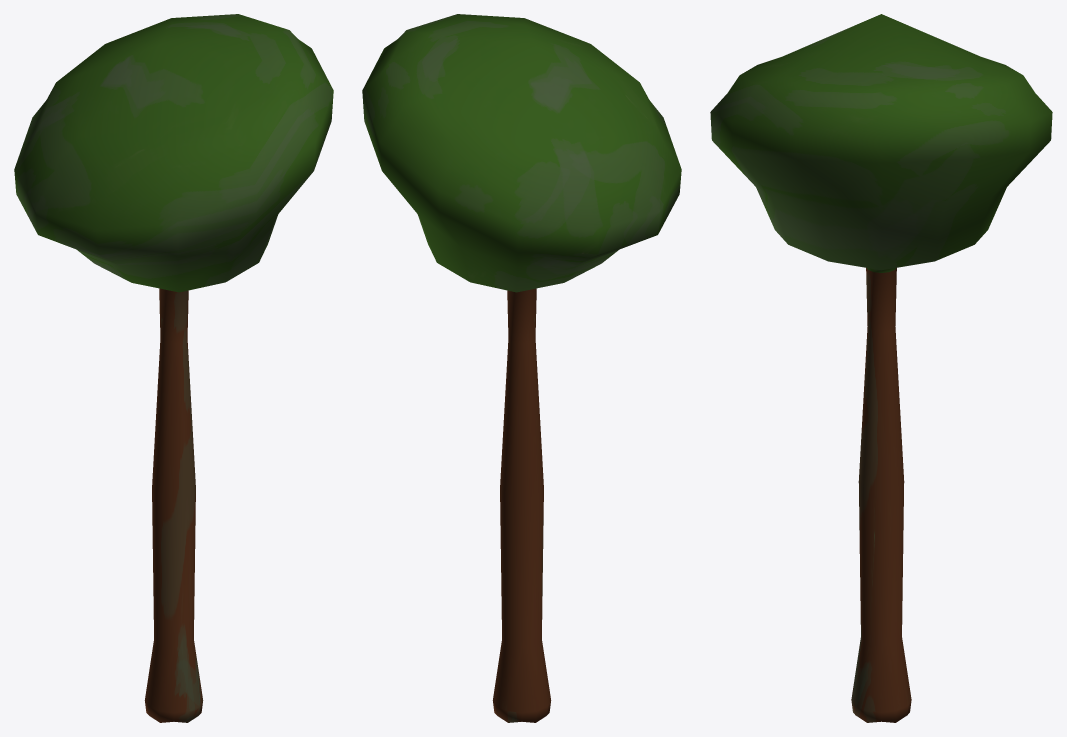
File: TreeObject.FBX
3 renders of one model, left to right at view 1: azimuth 30°, elevation 25°; view 2: azimuth 150°, elevation 25°; view 3: azimuth 270°, elevation 25°, orthographic. The views are drawn at different scales.
Visible parts, largest first — view 1: Cylinder001; view 2: Cylinder001; view 3: Cylinder001.
Boxes of the visible parts, bbox=[...] form: Cylinder001: bbox=[14, 14, 333, 722]; Cylinder001: bbox=[362, 14, 681, 722]; Cylinder001: bbox=[710, 14, 1052, 722].
Bounding box in the file's own units: 40 × 41.71 × 93.61.
1 material, 1 textured.
